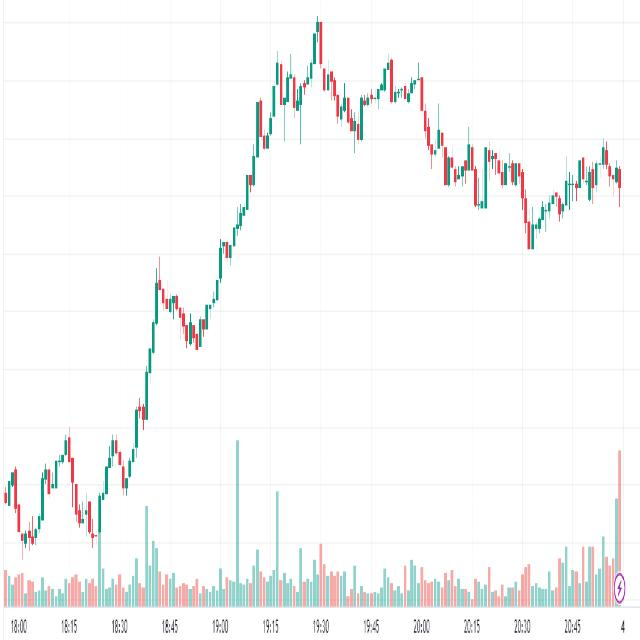Channel-down: (307, 2, 556, 269)
